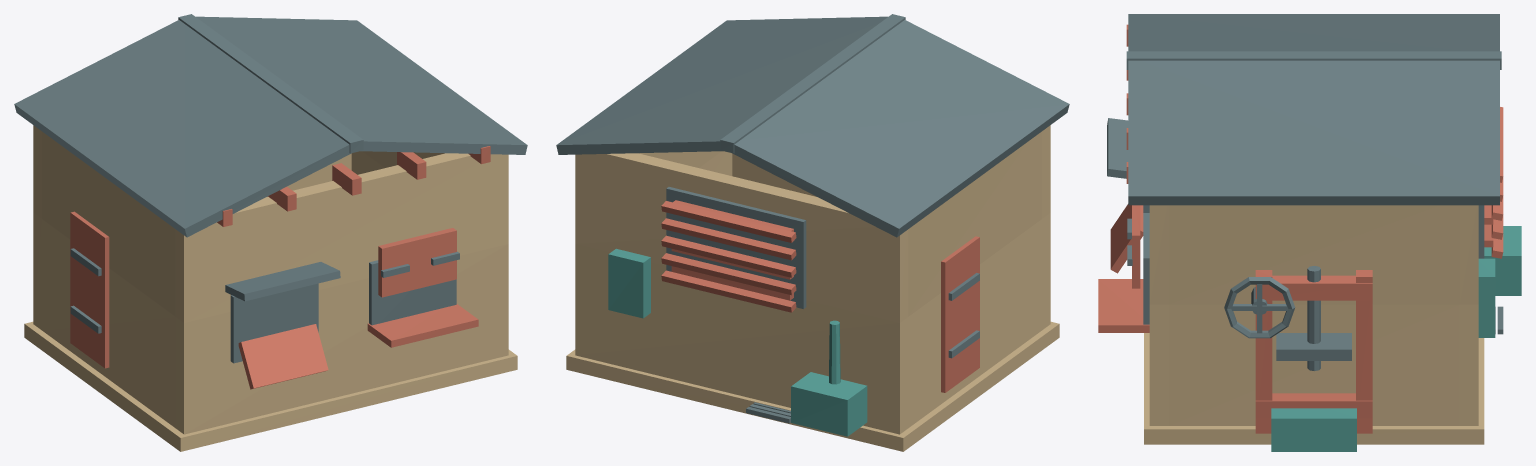
File: Cheese-House.glb
3 renders of one model, left to right at view 1: azimuth 30°, elevation 25°; view 2: azimuth 150°, elevation 25°; view 3: azimuth 270°, elevation 25°, orthographic. The views are drawn at different scales.
Visible parts, largest first — view 1: cheese-house-static-cheese-house-dark-galvanized-mat, cheese-house-static-cheese-house-warm-stone-mat, cheese-house-static-cheese-house-pale-plaster-mat, cheese-house-static-cheese-house-weathered-timber-mat, cheese-house-static-cheese-house-dark-iron-mat; view 2: cheese-house-static-cheese-house-dark-galvanized-mat, cheese-house-static-cheese-house-warm-stone-mat, cheese-house-static-cheese-house-pale-plaster-mat, cheese-house-static-cheese-house-weathered-timber-mat, cheese-house-static-cheese-house-dark-iron-mat, cheese-house-static-cheese-house-blue-grey-fixture-mat; view 3: cheese-house-static-cheese-house-dark-galvanized-mat, cheese-house-static-cheese-house-warm-stone-mat, cheese-house-static-cheese-house-pale-plaster-mat, cheese-house-static-cheese-house-weathered-timber-mat, cheese-house-static-cheese-house-dark-iron-mat, cheese-house-static-cheese-house-blue-grey-fixture-mat.
Part boxes in pixels (box(x1,y1,x2,y2)): cheese-house-static-cheese-house-dark-galvanized-mat: box(14, 16, 527, 301); cheese-house-static-cheese-house-warm-stone-mat: box(24, 151, 517, 451); cheese-house-static-cheese-house-pale-plaster-mat: box(33, 125, 508, 322); cheese-house-static-cheese-house-weathered-timber-mat: box(70, 146, 490, 389); cheese-house-static-cheese-house-dark-iron-mat: box(70, 14, 459, 363); cheese-house-static-cheese-house-dark-galvanized-mat: box(556, 16, 1069, 237); cheese-house-static-cheese-house-warm-stone-mat: box(566, 151, 1059, 451); cheese-house-static-cheese-house-pale-plaster-mat: box(575, 125, 1050, 322); cheese-house-static-cheese-house-weathered-timber-mat: box(661, 200, 979, 392); cheese-house-static-cheese-house-dark-iron-mat: box(666, 14, 979, 423); cheese-house-static-cheese-house-blue-grey-fixture-mat: box(608, 248, 867, 436); cheese-house-static-cheese-house-dark-galvanized-mat: box(1107, 14, 1499, 205); cheese-house-static-cheese-house-warm-stone-mat: box(1144, 304, 1484, 444); cheese-house-static-cheese-house-pale-plaster-mat: box(1149, 205, 1478, 304); cheese-house-static-cheese-house-weathered-timber-mat: box(1098, 24, 1503, 433); cheese-house-static-cheese-house-dark-iron-mat: box(1126, 51, 1503, 370); cheese-house-static-cheese-house-blue-grey-fixture-mat: box(1271, 226, 1521, 451).
Size of the model in its own units: 4.57 by 3.16 by 4.04.
